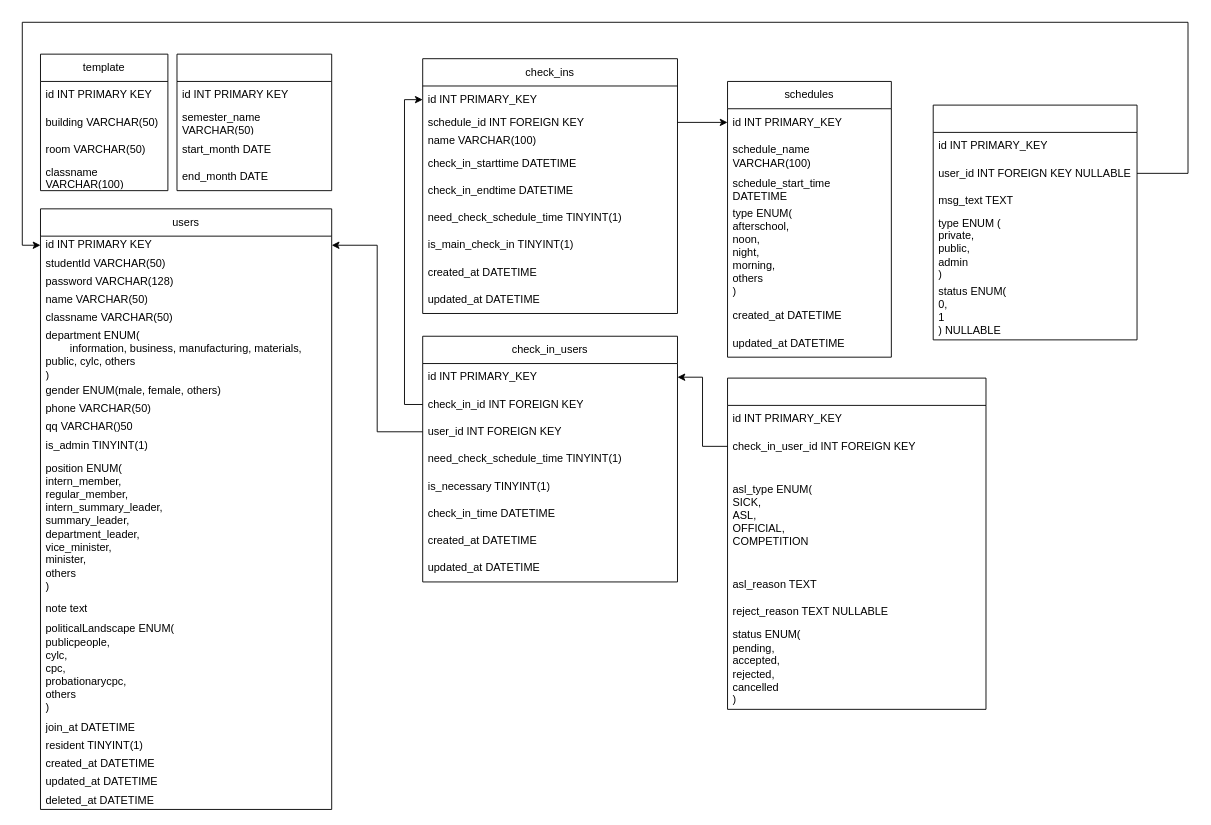
This 1211x825 diagram has some shape labels left out. Each missing label, with the box of its shape:
asl_applications: (727, 377, 986, 709)
current_semester: (176, 53, 332, 191)
messages: (932, 104, 1137, 340)
